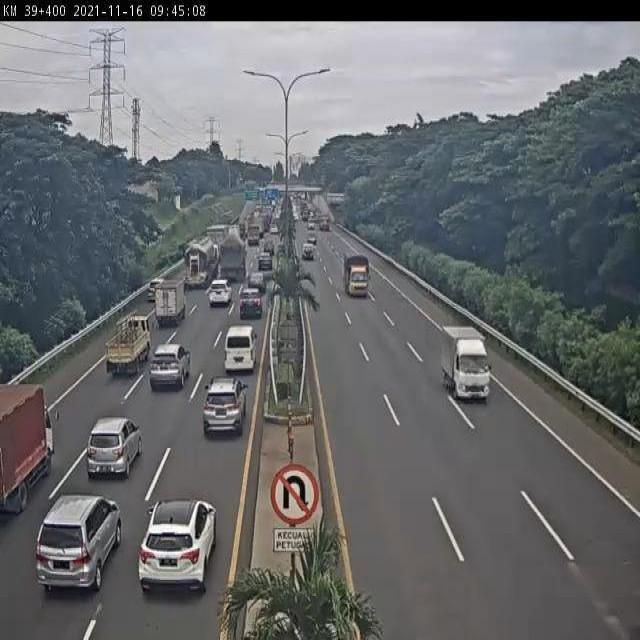car: (35, 498, 122, 594), (138, 501, 218, 591), (87, 417, 141, 479), (203, 376, 245, 436), (149, 343, 189, 391), (223, 324, 256, 371), (238, 291, 264, 320), (210, 279, 231, 307), (246, 271, 268, 295), (147, 277, 164, 300)
truck: (0, 385, 55, 516), (441, 324, 490, 404), (104, 315, 154, 377), (180, 239, 214, 289), (154, 279, 188, 323), (217, 239, 247, 283), (344, 255, 370, 301)
